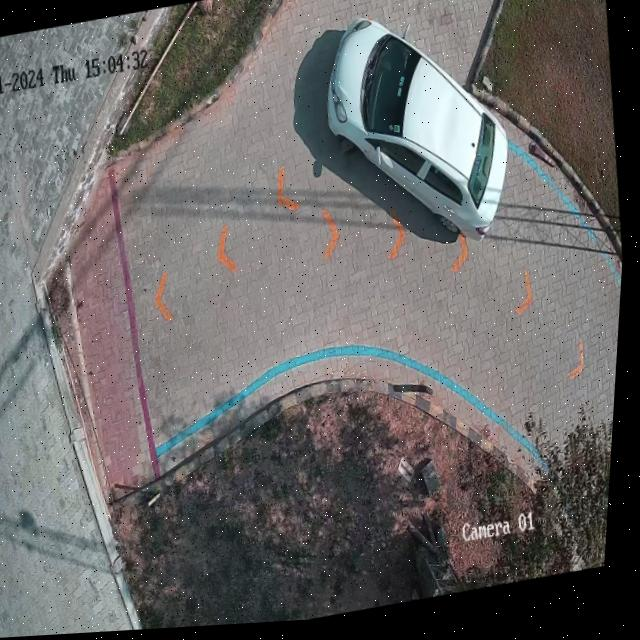car: (328, 22, 510, 246)
